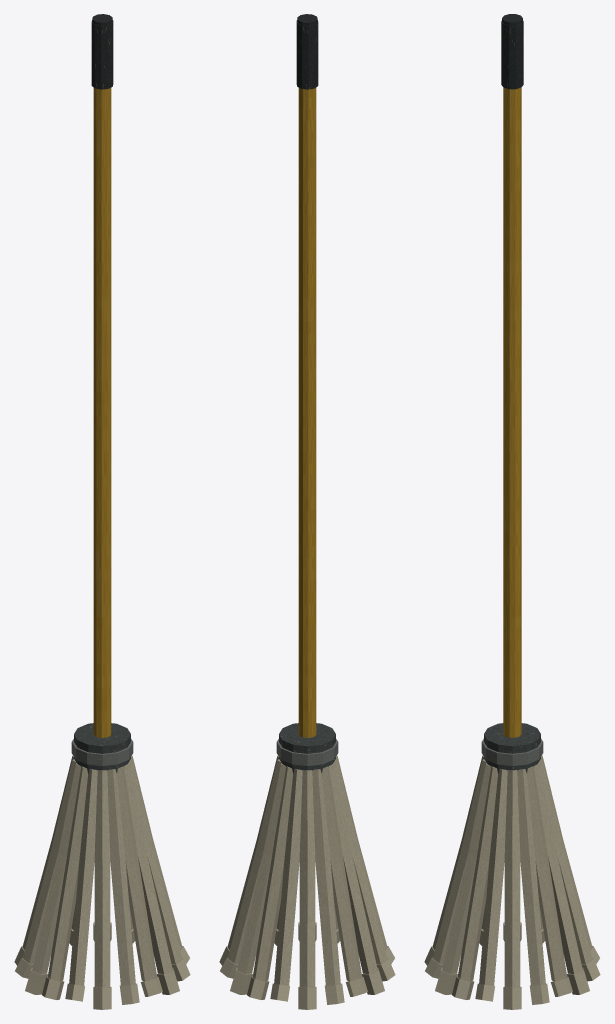
Rendered from string_mop.glb.
3 views of the same model, side by side, from view 1: azimuth 30°, elevation 25°; view 2: azimuth 150°, elevation 25°; view 3: azimuth 270°, elevation 25° (orthographic).
Parts seen in each view (by area): view 1: string_mop; view 2: string_mop; view 3: string_mop.
Boxes of the visible parts, x1,y1,x2,y2 form: string_mop: (14, 14, 190, 1009); string_mop: (219, 14, 395, 1009); string_mop: (424, 14, 600, 1009).
Size of the model in its own units: 0.2566 by 1.51 by 0.2521.
5 materials, 5 textured.
